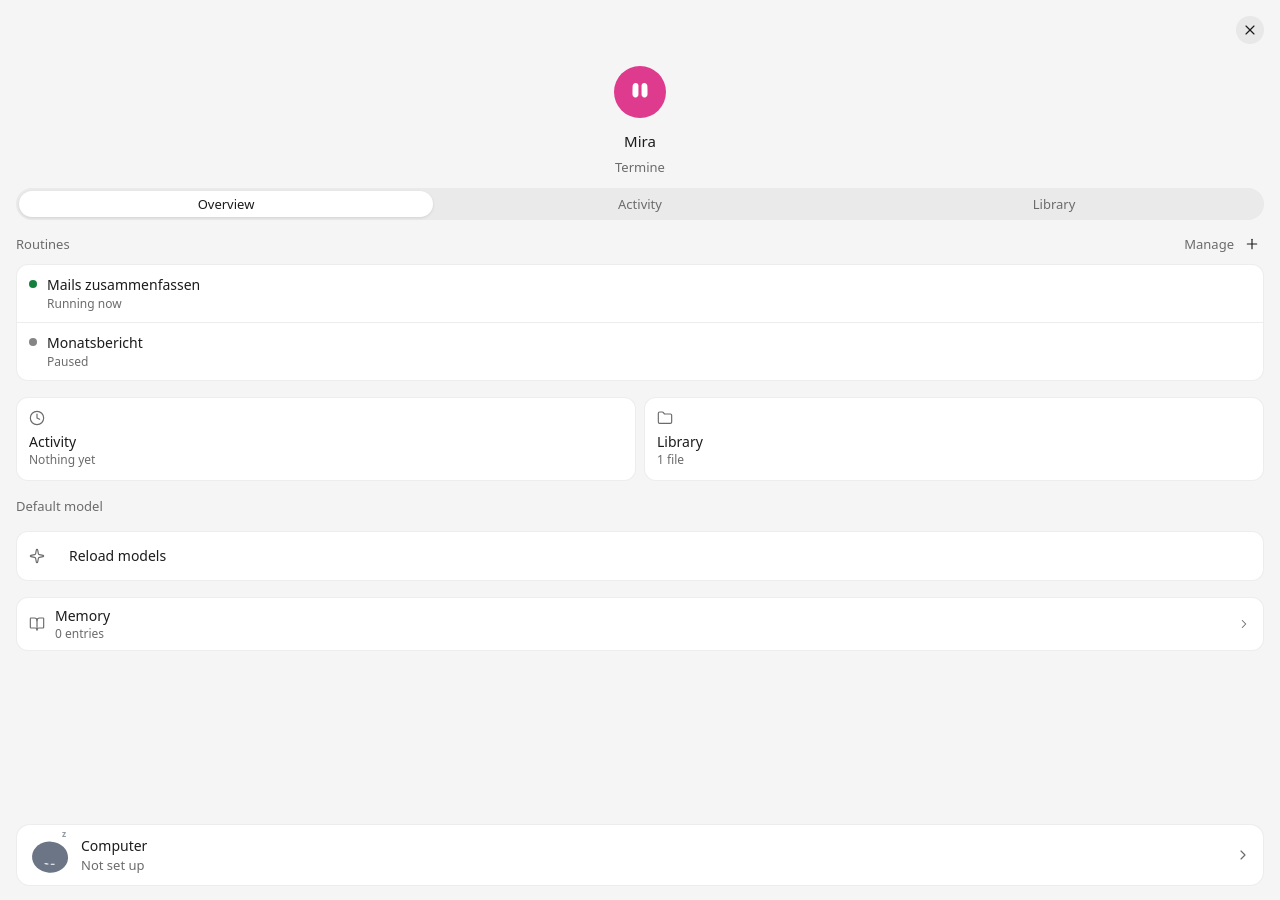
Orbis › Übersicht › zeigt nur die Routinen dieses Orbis mit Status und öffnet sie per Klick
Expected: the element "Routines" shows "Mails zusammenfassen", [17,265,1263,322]
Expected: the element "Routines" shows "Running now", [17,265,1263,322]
Click the button "Monatsbericht Paused".
click(95, 342)  # box [17,322,1263,380]
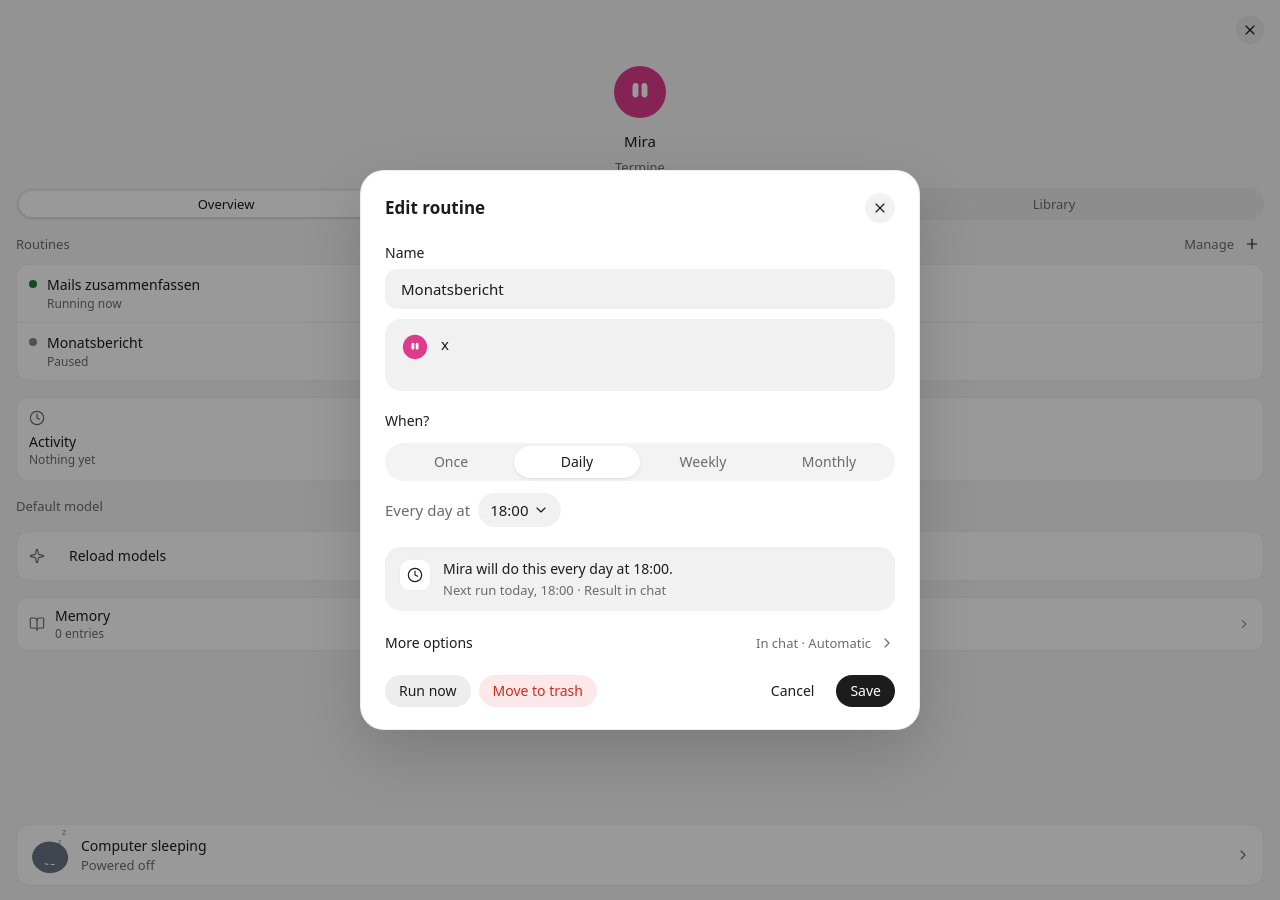
Expected: the heading "Edit routine" is shown, [385,196,485,219]
